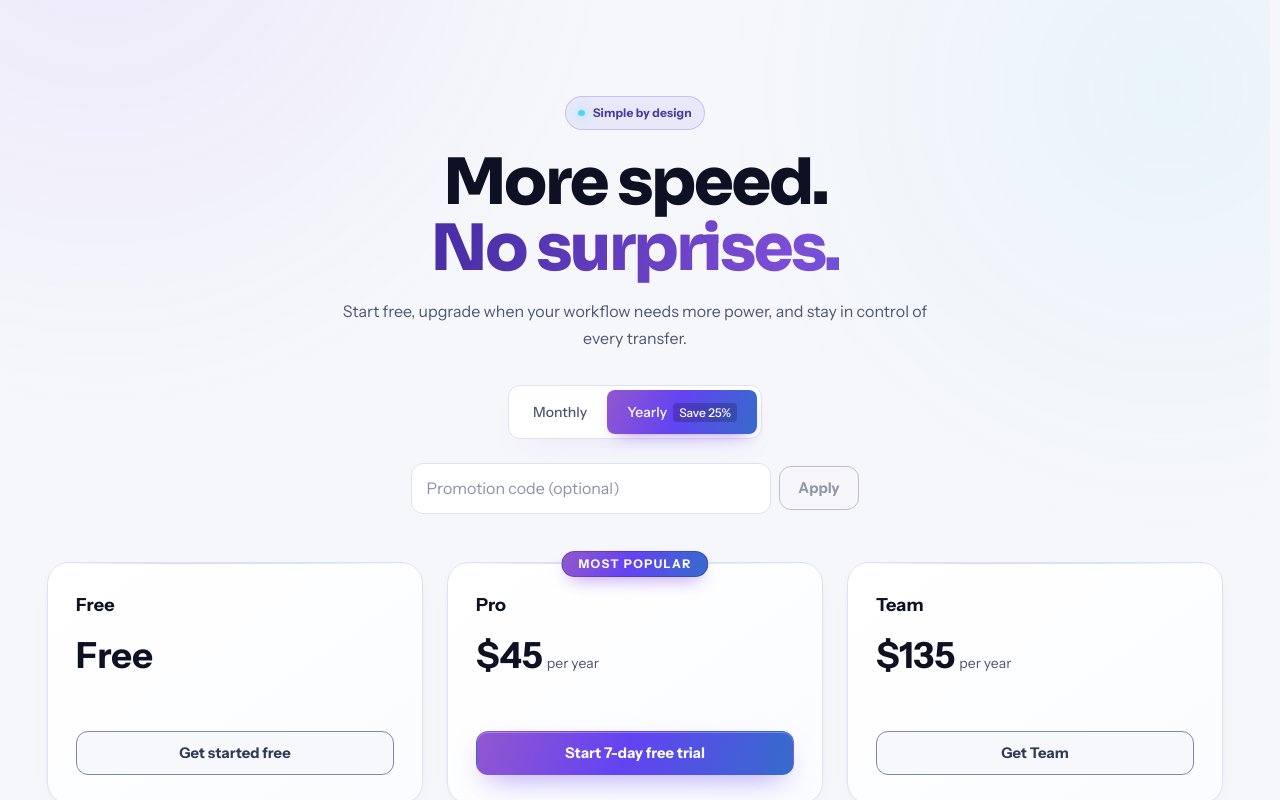
Pricing promotion code › reports an invalid code instead of silently charging full price
Step 1. Type "NOPE" into the field with placeholder "Promotion code (optional)" → (591, 488), box [411, 463, 771, 514]
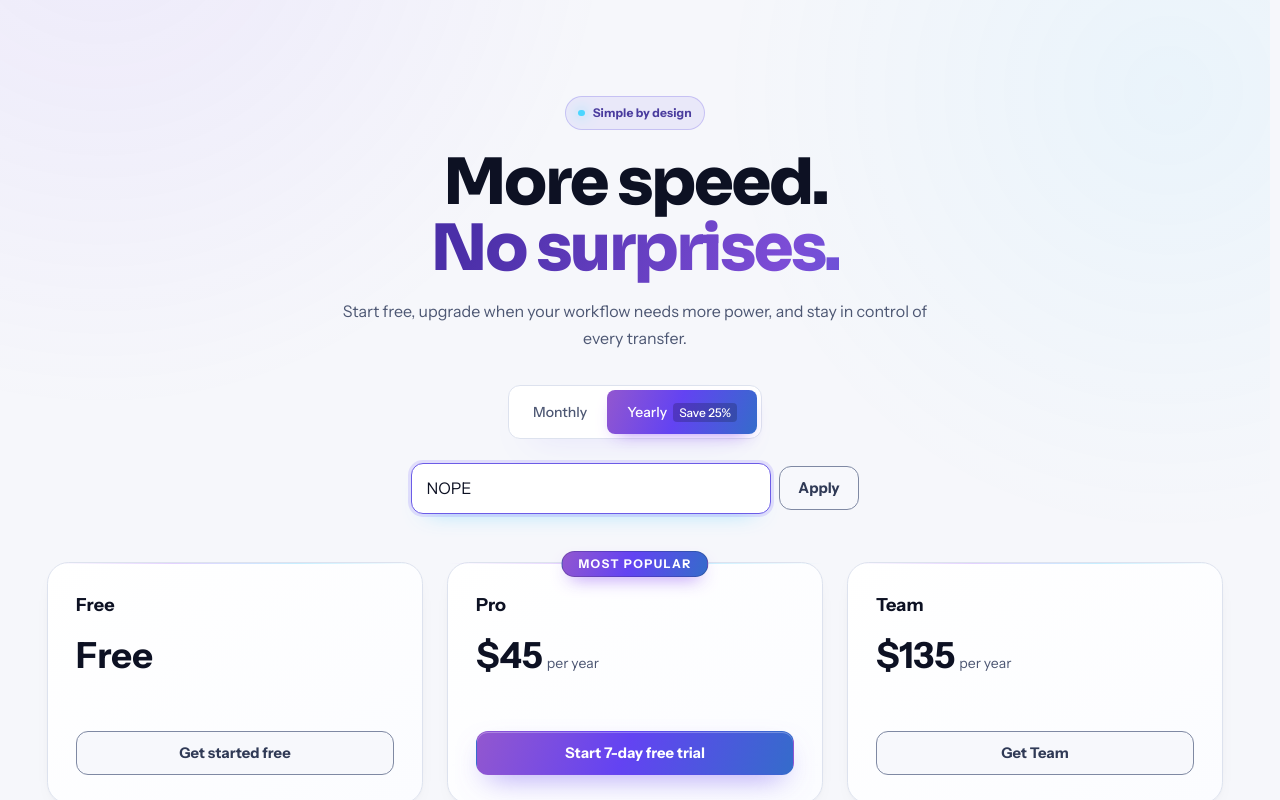
Step 2. Click the button "Apply" → (819, 488), box [779, 466, 859, 510]
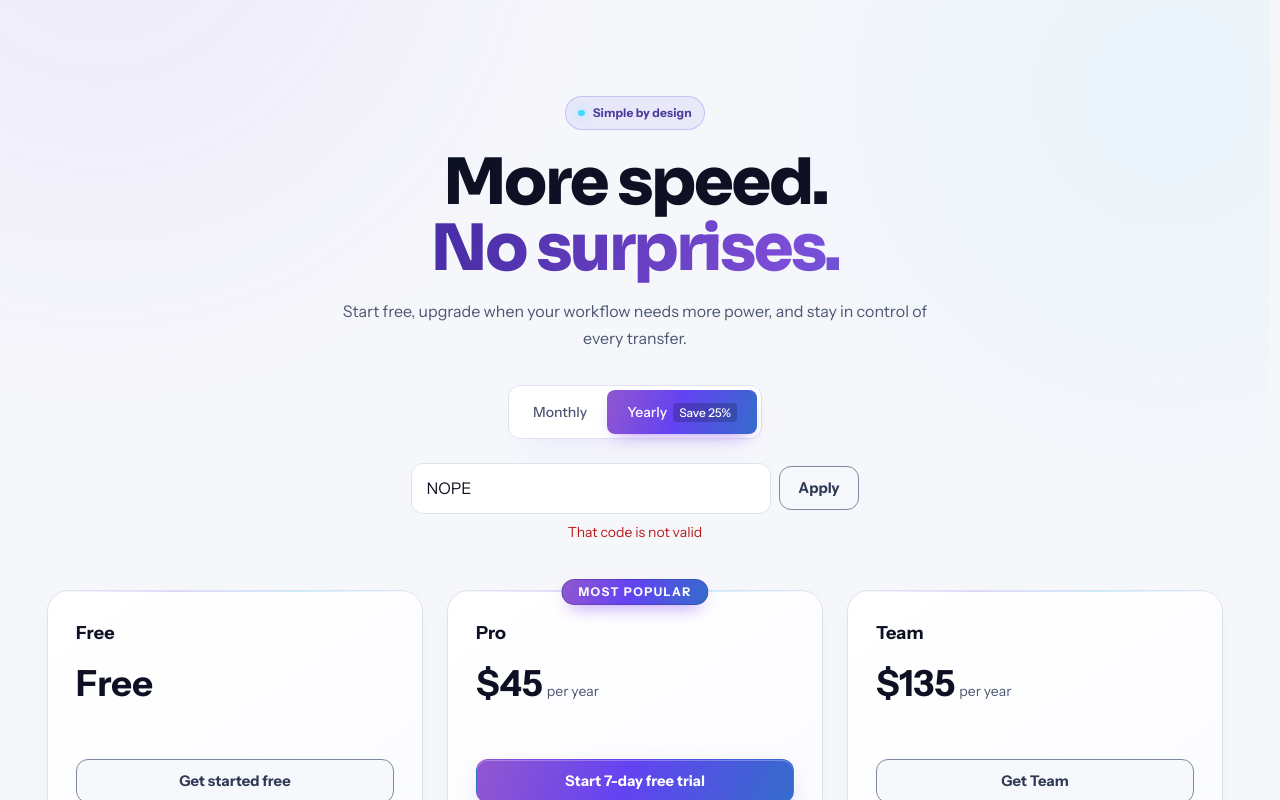
Expected: the message shows "not valid", [568, 523, 702, 541]
